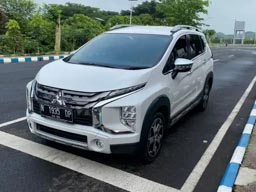plat: (39, 103, 73, 124)
